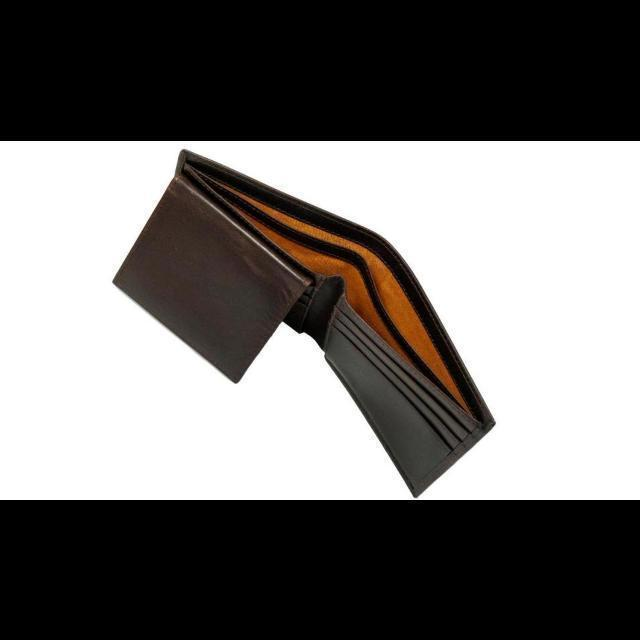wallet: (114, 148, 493, 492)
